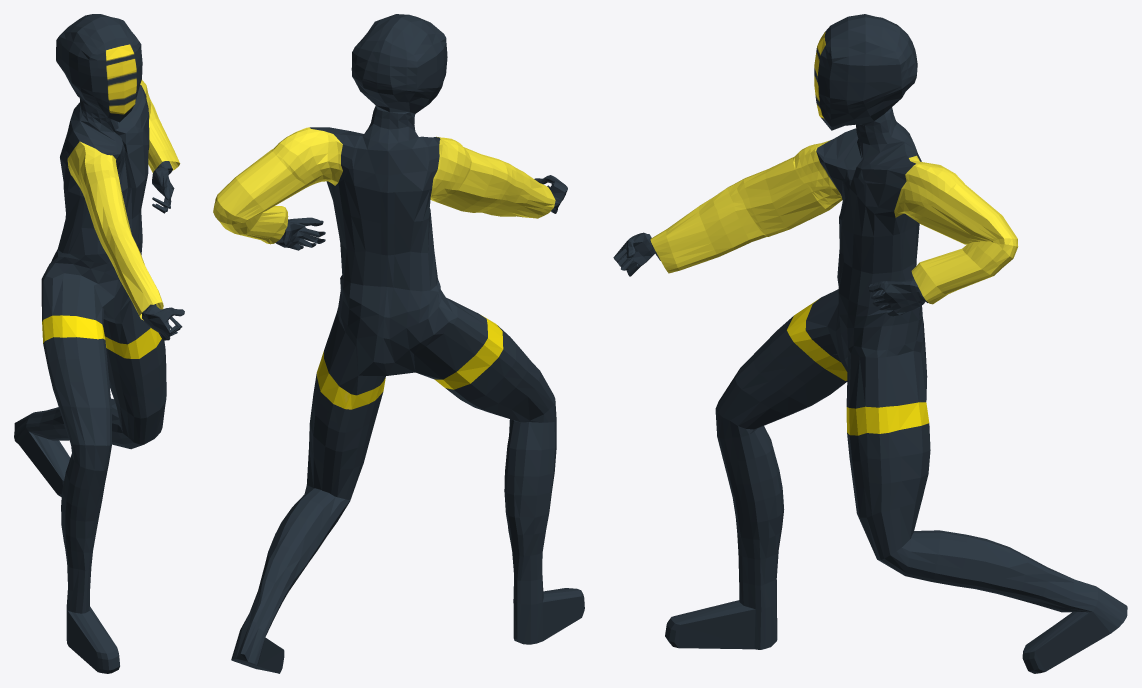
File: Sentry_WL_000007.obj
3 views of the same model, side by side, from view 1: azimuth 30°, elevation 25°; view 2: azimuth 150°, elevation 25°; view 3: azimuth 270°, elevation 25° (orthographic). The views are drawn at different scales.
Parts seen in each view (by area): view 1: Cube; view 2: Cube; view 3: Cube.
Part boxes in pixels (x1=…): Cube: x1=14, y1=14, x2=184, y2=673; Cube: x1=213, y1=14, x2=584, y2=673; Cube: x1=613, y1=14, x2=1127, y2=673.
Bounding box in the file's own units: 1.27 × 3.61 × 2.52.
